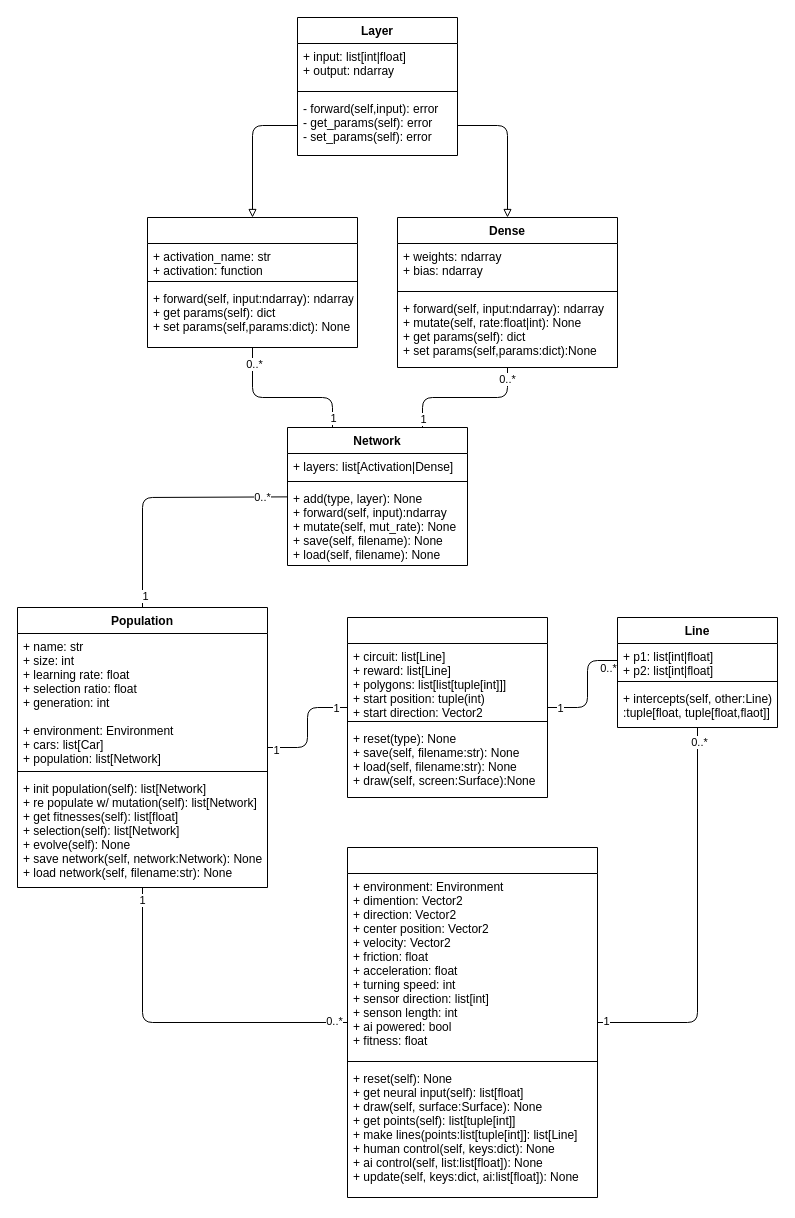
Some shapes in this 795 by 1218 pixel diagram are drawn without their labels. The box of each missing label's shape, as (x1, y1, x2, y2) in pixels:
ActivationLayer: (146, 216, 358, 348)
Car: (346, 846, 598, 1198)
Environment: (346, 616, 548, 798)
